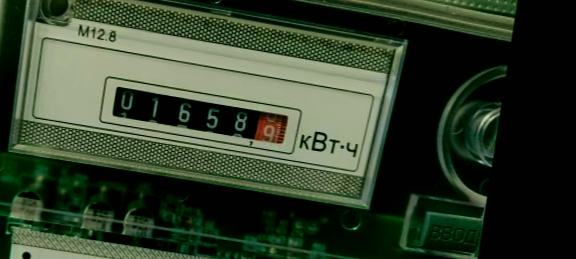0: (119, 87, 135, 111)
1: (148, 95, 161, 118)
5: (204, 104, 221, 129)
6: (176, 99, 193, 123)
8: (232, 108, 249, 132)
9: (258, 121, 275, 144)
screen: (92, 69, 310, 160)
